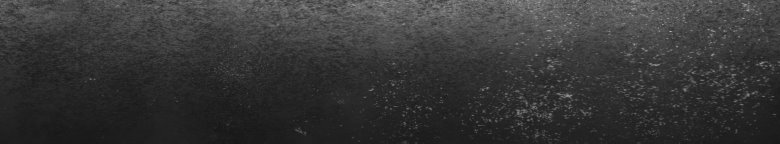kb: (271, 4, 760, 136)
